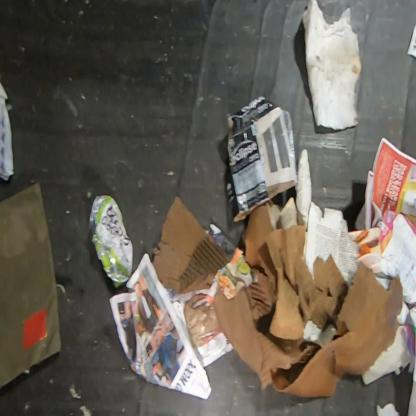cardboard: (264, 224, 349, 357), (226, 95, 298, 223), (152, 196, 233, 296)
metal: (88, 194, 134, 288)
soft_plastic: (0, 179, 61, 392)
